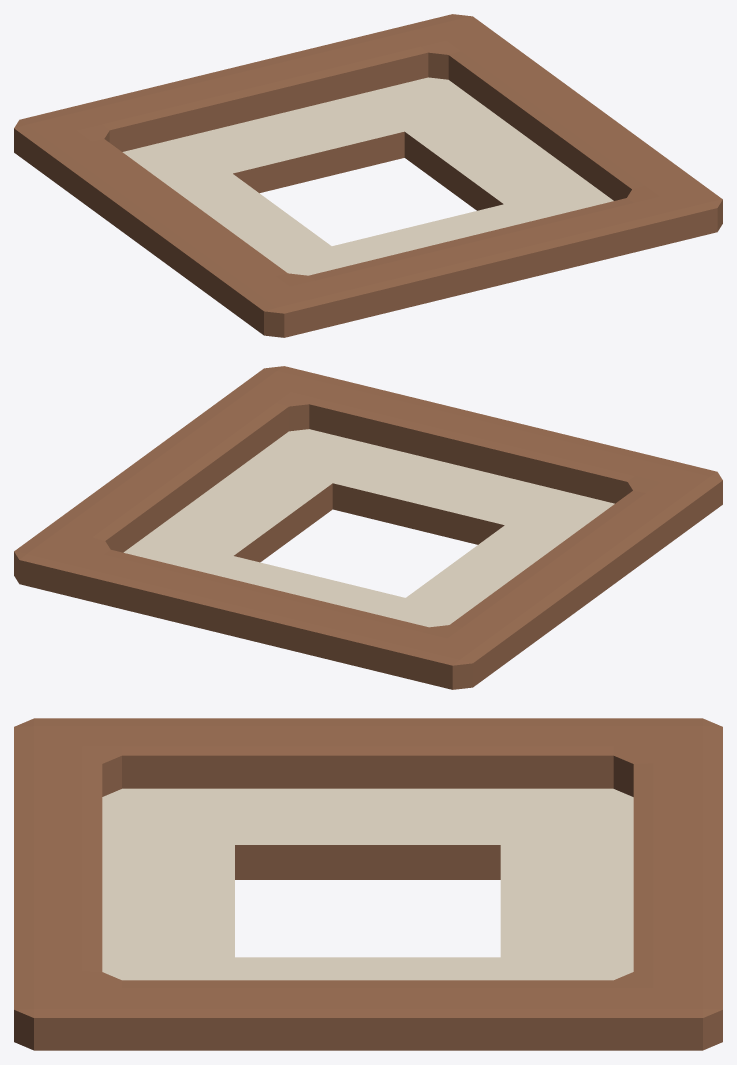
Rendered from HoverPlatform.fbx.
The picture shows the model from 3 angles, top to bottom: view 1: azimuth 30°, elevation 25°; view 2: azimuth 150°, elevation 25°; view 3: azimuth 270°, elevation 25°; orthographic projection. The views are drawn at different scales.
Visible parts, largest first — view 1: Cube; view 2: Cube; view 3: Cube.
Boxes of the visible parts, x1,y1,x2,y2 form: Cube: [14, 14, 722, 337]; Cube: [14, 366, 722, 689]; Cube: [14, 718, 722, 1050].
Bounding box in the file's own units: 2400 × 258 × 2400.
